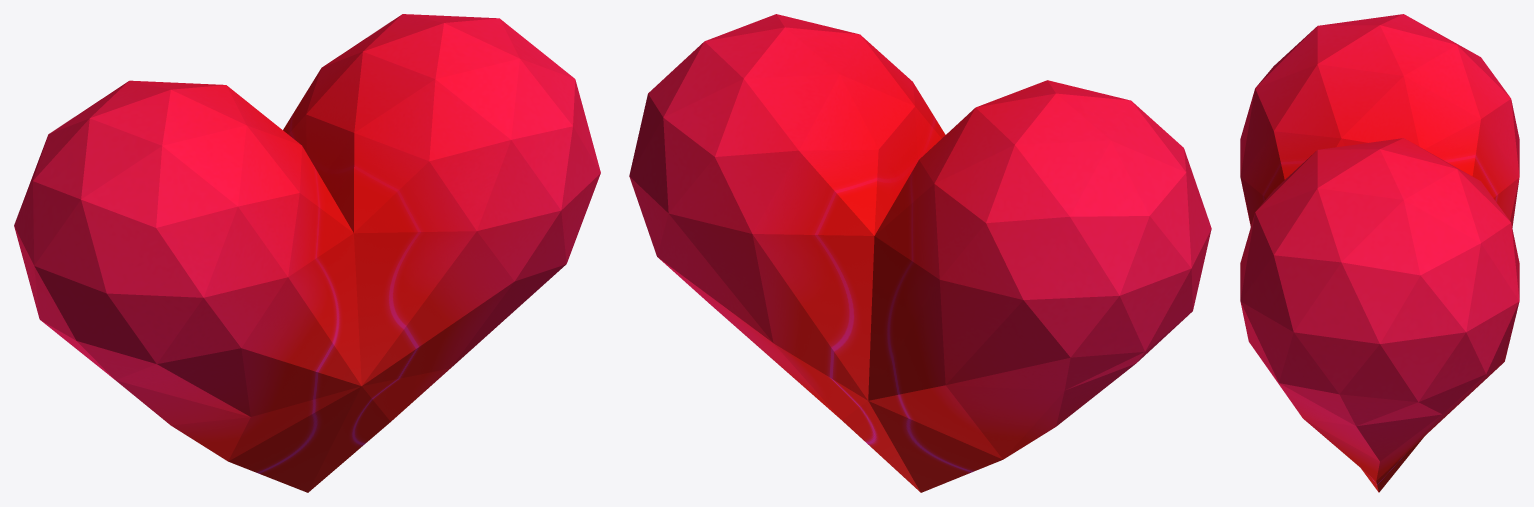
Rendered from Heart.fbx.
3 renders of one model, left to right at view 1: azimuth 30°, elevation 25°; view 2: azimuth 150°, elevation 25°; view 3: azimuth 270°, elevation 25°, orthographic. The views are drawn at different scales.
Parts seen in each view (by area): view 1: Icosphere_001; view 2: Icosphere_001; view 3: Icosphere_001.
Part boxes in pixels (x1,y1,x2,y2): Icosphere_001: (14,14,600,492); Icosphere_001: (629,14,1211,492); Icosphere_001: (1240,14,1519,492).
Size of the model in its own units: 4 by 3.05 by 1.9.
